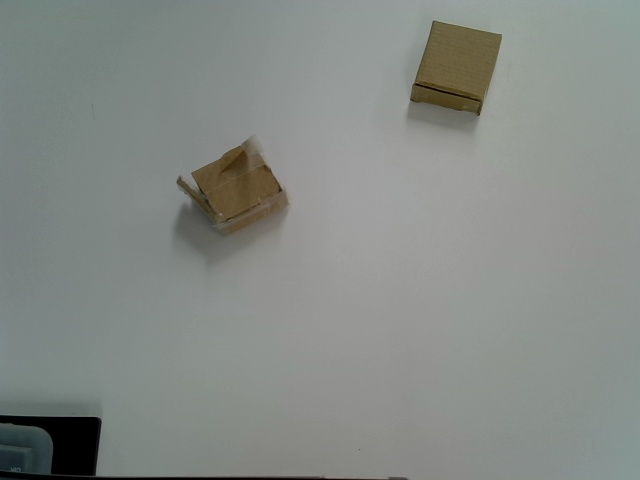defect: (176, 135, 290, 238)
normal: (410, 21, 505, 116)
